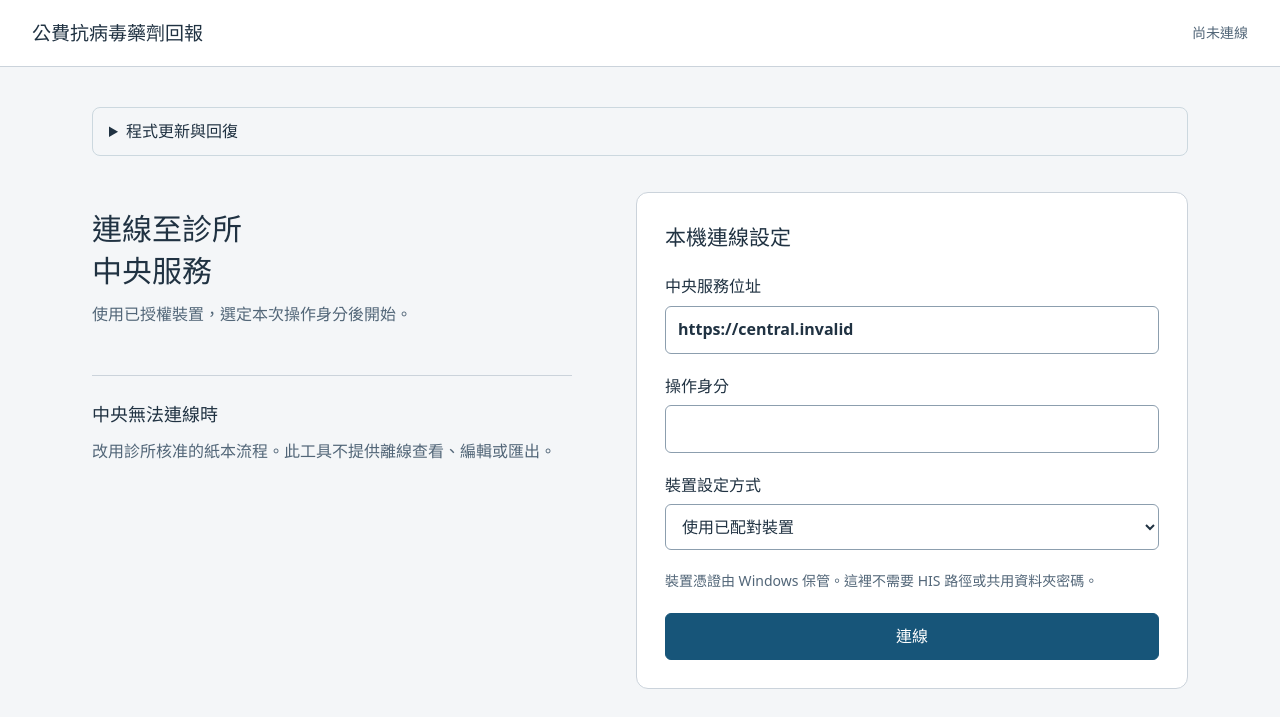
Test: a pairing whose response was lost keeps its request ID after reconnecting
Expected: the field showing "https://central.invalid" is shown, [665,306,1159,354]
Step 1. Type "管理者" into the field labelled "操作身分" → (912, 429), box [665,405,1159,453]
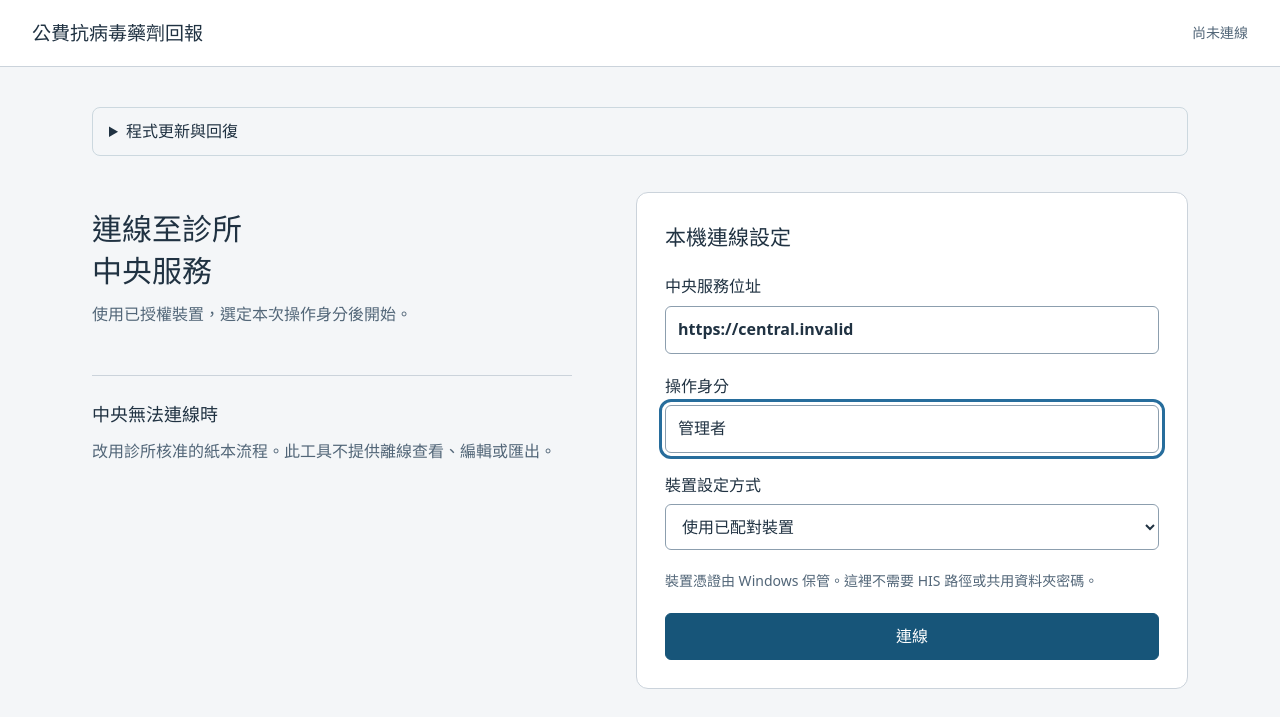
Step 2. Click the button "連線" → (912, 636), box [665,613,1159,660]
(page scrolled)
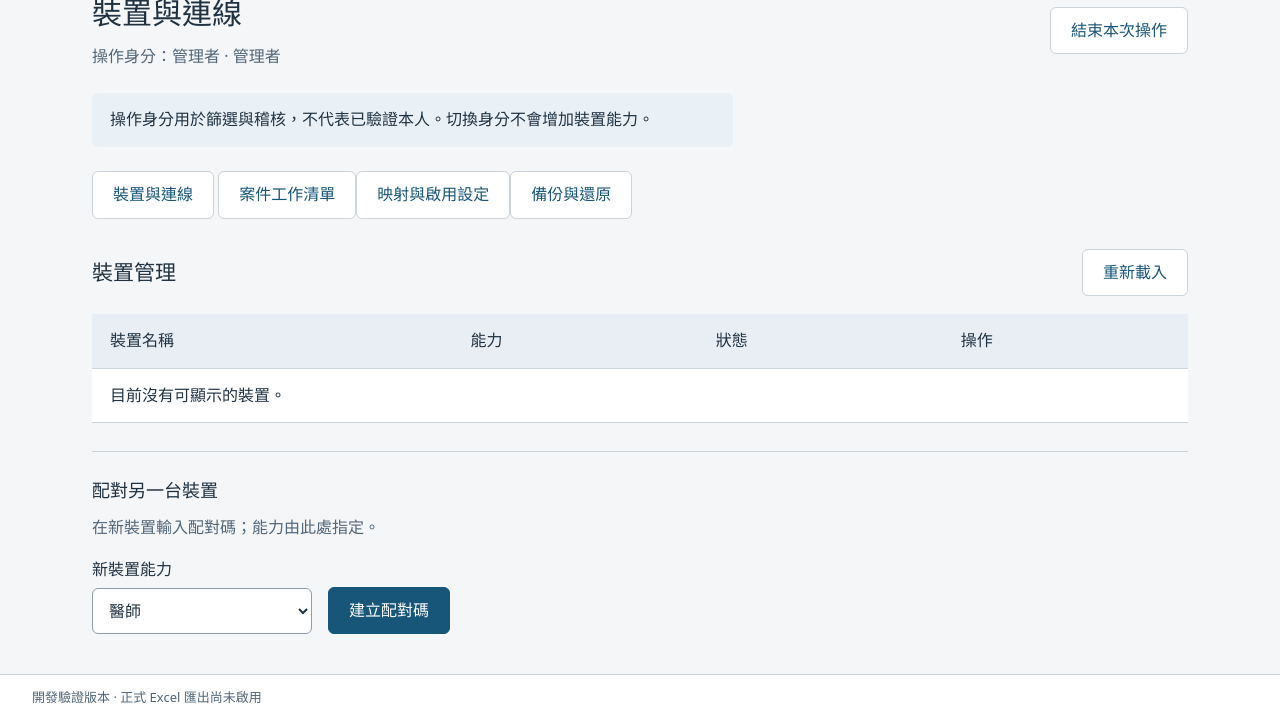
Step 3. Click the button "建立配對碼" → (389, 610), box [328,587,450,634]
(page scrolled)
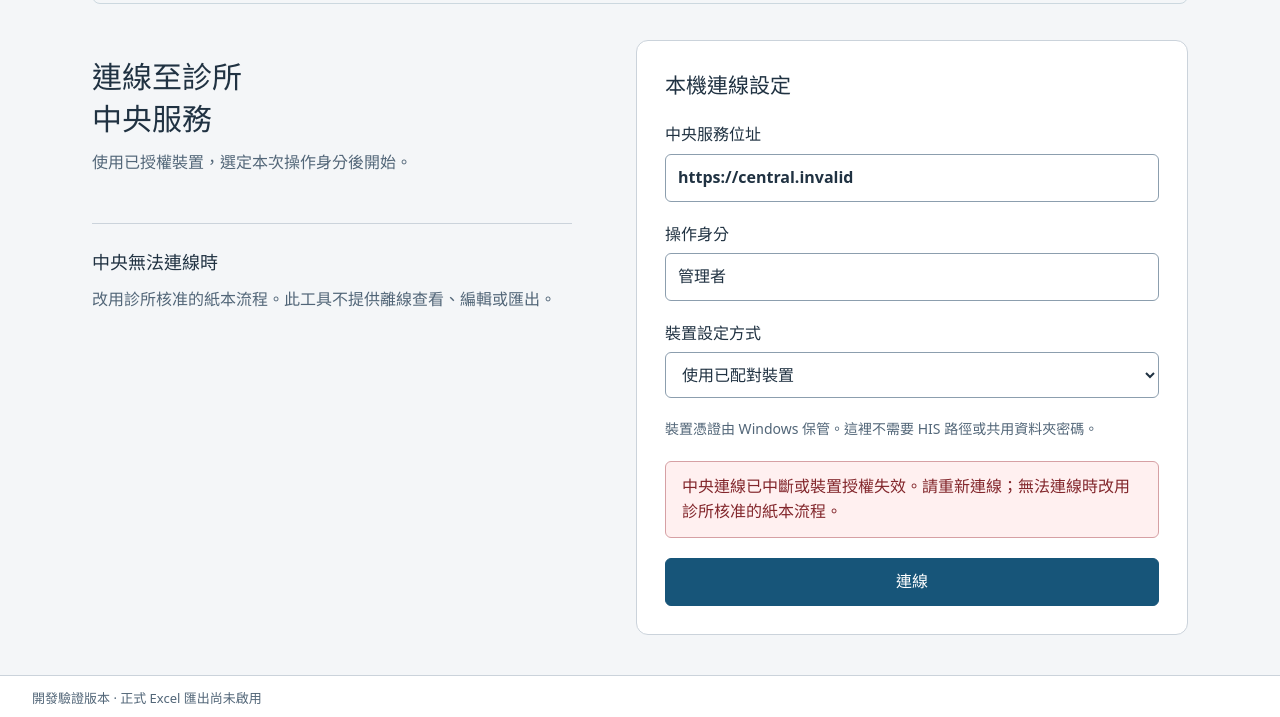
Expected: the message "中央連線已中斷或裝置授權失效。請重新連線；無法連線時改用診所核准的紙本流程。" is shown, [665,461,1159,538]
Step 4. Click the button "連線" → (912, 582), box [665,558,1159,606]
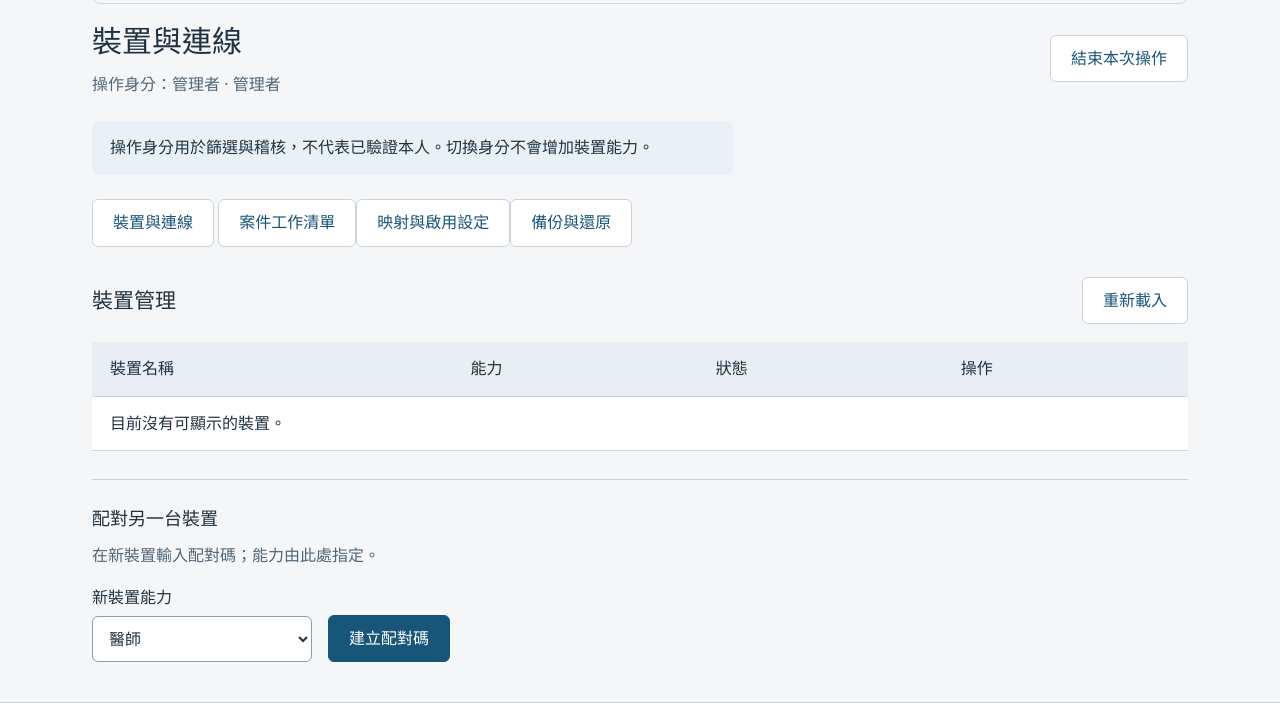
Step 5. Click the button "建立配對碼" → (389, 638), box [328,615,450,662]
(page scrolled)
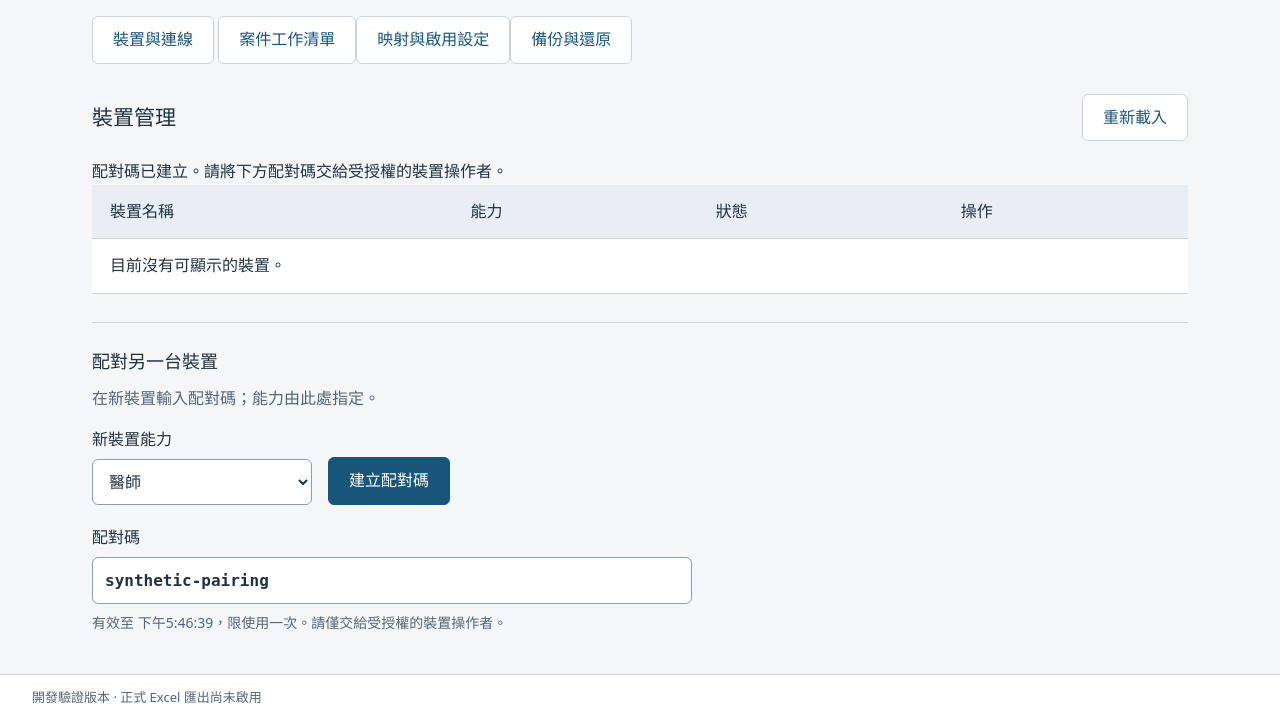
Expected: the field showing "synthetic-pairing" is shown, [92,556,692,604]
